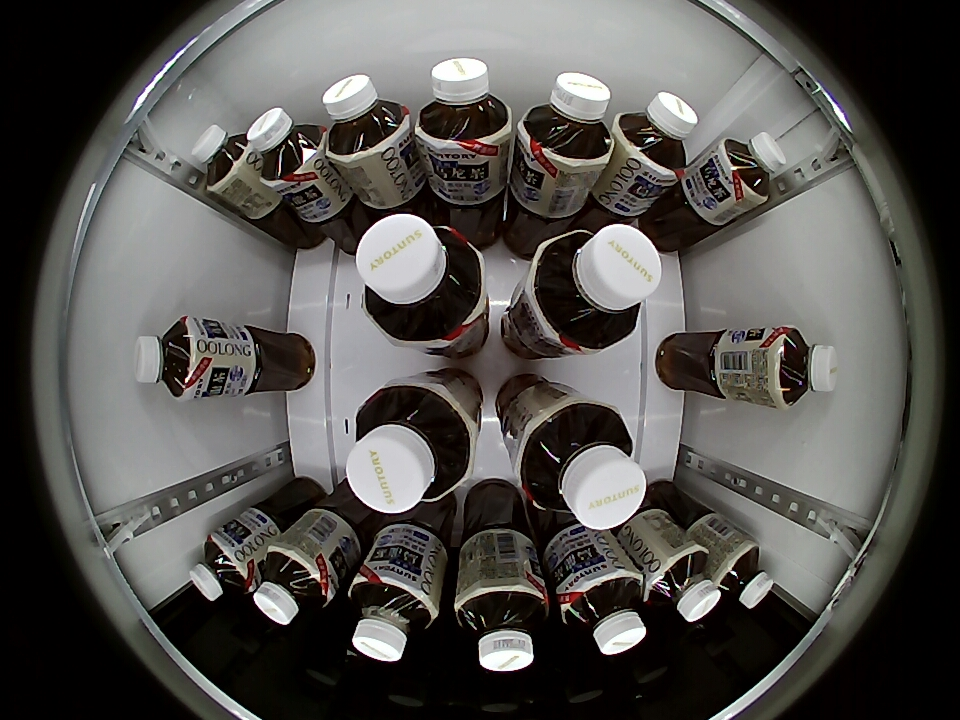wulongcha: (345, 381, 475, 515), (530, 222, 661, 352), (356, 213, 485, 345), (519, 403, 647, 530), (347, 566, 442, 663), (519, 71, 614, 167), (416, 57, 512, 151), (453, 582, 550, 673), (557, 563, 647, 657), (751, 322, 843, 412), (322, 73, 411, 162), (614, 90, 698, 180), (132, 315, 213, 401), (253, 545, 336, 626), (644, 544, 722, 623), (247, 106, 325, 183), (715, 128, 785, 209), (188, 532, 255, 602), (191, 124, 255, 193), (713, 540, 774, 609)
